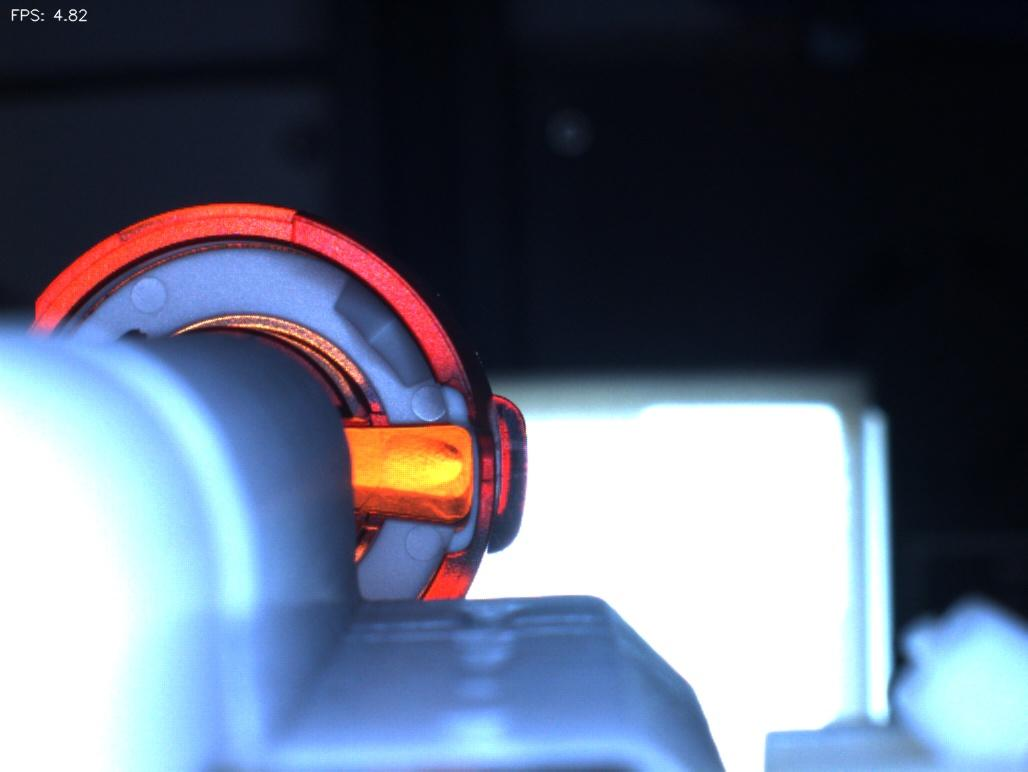Retassure: (376, 430, 472, 498)
